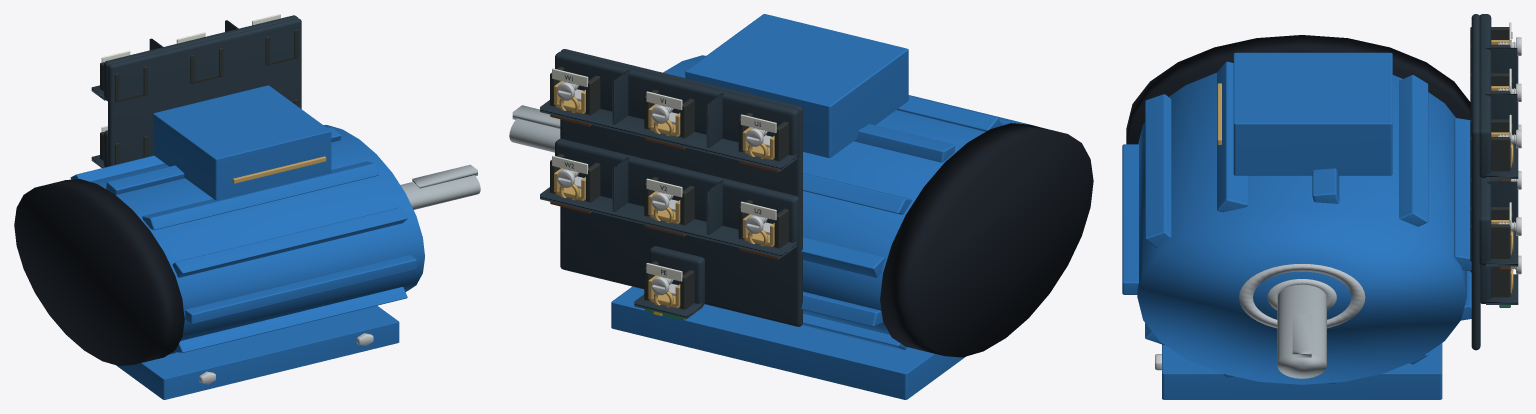
File: motor3_motor.glb
3 views of the same model, side by side, from view 1: azimuth 30°, elevation 25°; view 2: azimuth 150°, elevation 25°; view 3: azimuth 270°, elevation 25° (orthographic). The views are drawn at different scales.
Visible parts, largest first — view 1: part:body · Original 7cfa2338, part:body, part:terminals · Original a463fd81, motion:rotor · Original 2a8198d3, Motor terminal link strap, detail:terminal-clamp:U1 · Detail moulded engineering polyme; view 2: part:body · Original 7cfa2338, part:terminals · Original a463fd81, part:body, motion:rotor · Original 2a8198d3, detail:terminal-clamp:U1 · Detail moulded engineering polyme, detail:terminal-clamp:PE · Detail moulded engineering polyme, detail:terminal-clamp:U2 · Detail moulded engineering polyme, detail:terminal-clamp:V1 · Detail moulded engineering polyme, detail:terminal-clamp:V2 · Detail moulded engineering polyme, detail:terminal-clamp:W1 · Detail moulded engineering polyme, detail:terminal-clamp:W2 · Detail moulded engineering polyme, detail:terminal-clamp:V1 · Detail machined brass (+5 smaller); view 3: part:body · Original 7cfa2338, part:terminals · Original a463fd81, part:body, motion:rotor · Original 2a8198d3, detail:motor-bearing · Detail brushed stainless steel, detail:terminal-clamp:W1 · Detail moulded engineering polyme, detail:terminal-clamp:W2 · Detail moulded engineering polyme, detail:terminal-clamp:PE · Detail moulded engineering polyme, detail:terminal-clamp:U1 · Detail moulded engineering polyme, detail:terminal-clamp:V1 · Detail moulded engineering polyme.
Part boxes in pixels (x1,y1,x2,y2): part:body · Original 7cfa2338: (70, 85, 424, 399); part:body: (14, 179, 184, 365); part:terminals · Original a463fd81: (91, 15, 301, 167); motion:rotor · Original 2a8198d3: (400, 164, 480, 209); Motor terminal link strap: (232, 156, 326, 183); detail:terminal-clamp:U1 · Detail moulded engineering polyme: (100, 62, 147, 102); part:body · Original 7cfa2338: (611, 14, 1037, 399); part:terminals · Original a463fd81: (540, 49, 802, 326); part:body: (880, 123, 1093, 357); motion:rotor · Original 2a8198d3: (509, 105, 560, 152); detail:terminal-clamp:U1 · Detail moulded engineering polyme: (738, 112, 788, 161); detail:terminal-clamp:PE · Detail moulded engineering polyme: (644, 261, 694, 309); detail:terminal-clamp:U2 · Detail moulded engineering polyme: (738, 200, 788, 248); detail:terminal-clamp:V1 · Detail moulded engineering polyme: (644, 89, 694, 138); detail:terminal-clamp:V2 · Detail moulded engineering polyme: (644, 177, 694, 225); detail:terminal-clamp:W1 · Detail moulded engineering polyme: (550, 66, 600, 115); detail:terminal-clamp:W2 · Detail moulded engineering polyme: (550, 154, 600, 202); detail:terminal-clamp:V1 · Detail machined brass: (648, 104, 680, 136); part:body · Original 7cfa2338: (1122, 52, 1471, 399); part:terminals · Original a463fd81: (1471, 14, 1518, 350); part:body: (1126, 35, 1470, 144); motion:rotor · Original 2a8198d3: (1277, 284, 1326, 378); detail:motor-bearing · Detail brushed stainless steel: (1239, 264, 1365, 328); detail:terminal-clamp:W1 · Detail moulded engineering polyme: (1470, 119, 1511, 174); detail:terminal-clamp:W2 · Detail moulded engineering polyme: (1470, 207, 1511, 261); detail:terminal-clamp:PE · Detail moulded engineering polyme: (1470, 266, 1511, 297); detail:terminal-clamp:U1 · Detail moulded engineering polyme: (1470, 27, 1510, 73); detail:terminal-clamp:V1 · Detail moulded engineering polyme: (1470, 73, 1510, 119).
Bounding box in the file's own units: 1.58 × 0.8774 × 1.11.
